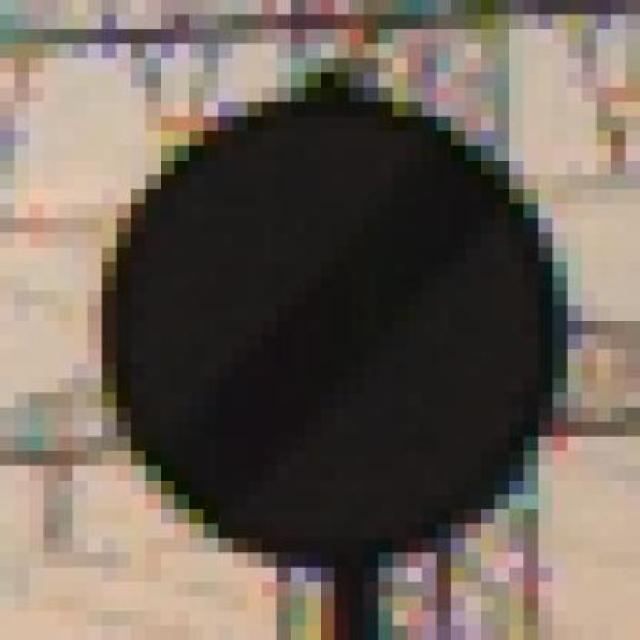End of all speed and passing limits: (72, 72, 611, 568)
